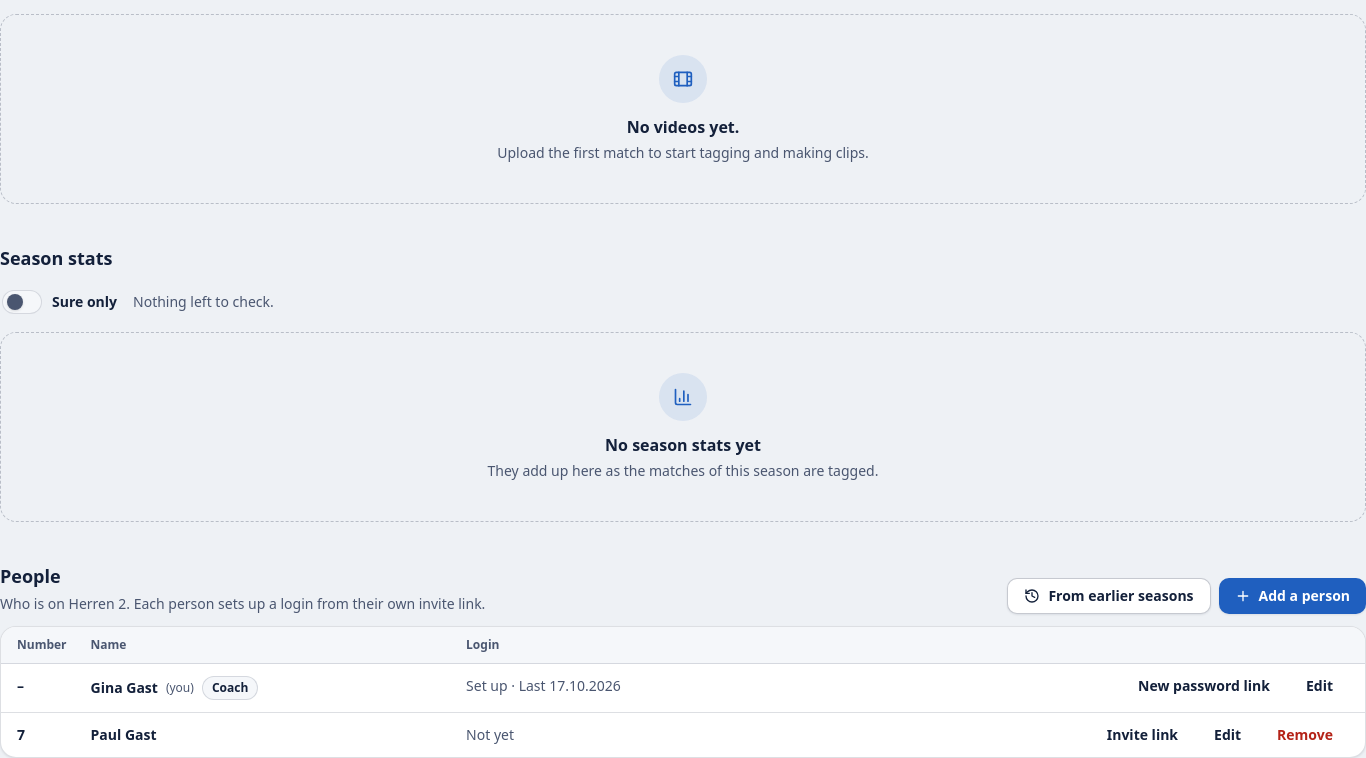
a guest team's seasons › takes people of earlier seasons along
(page scrolled)
Click the button "From earlier seasons".
click(1109, 596)  # box [1007,578,1211,614]
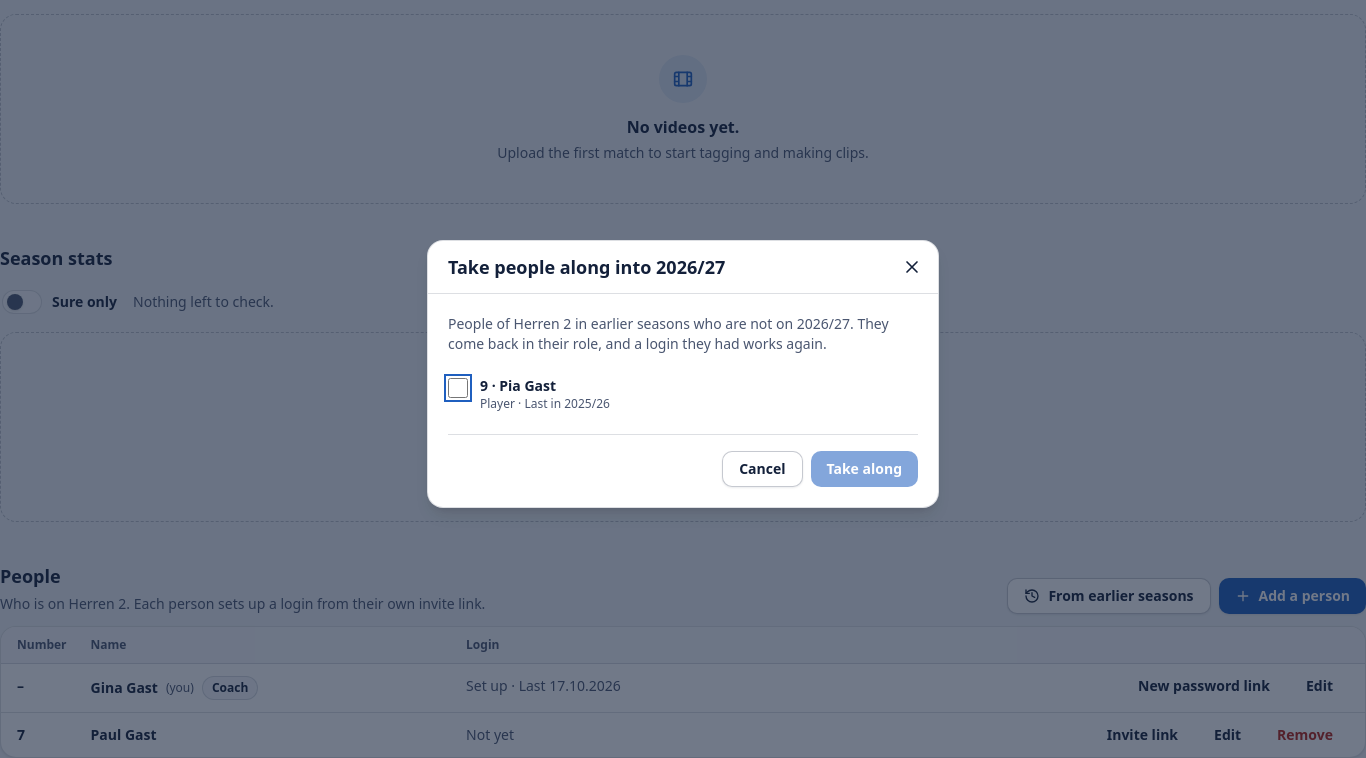
Now the button "Take along" is disabled, box [810,451,918,487]
Now the dialog "Take people along into 2026/27" shows "Player · Last in 2025/26", box [480,395,610,412]
Click the checkbox labelled "9 · Pia Gast Player · Last in 2025/26".
click(458, 388)  # box [448,378,468,398]
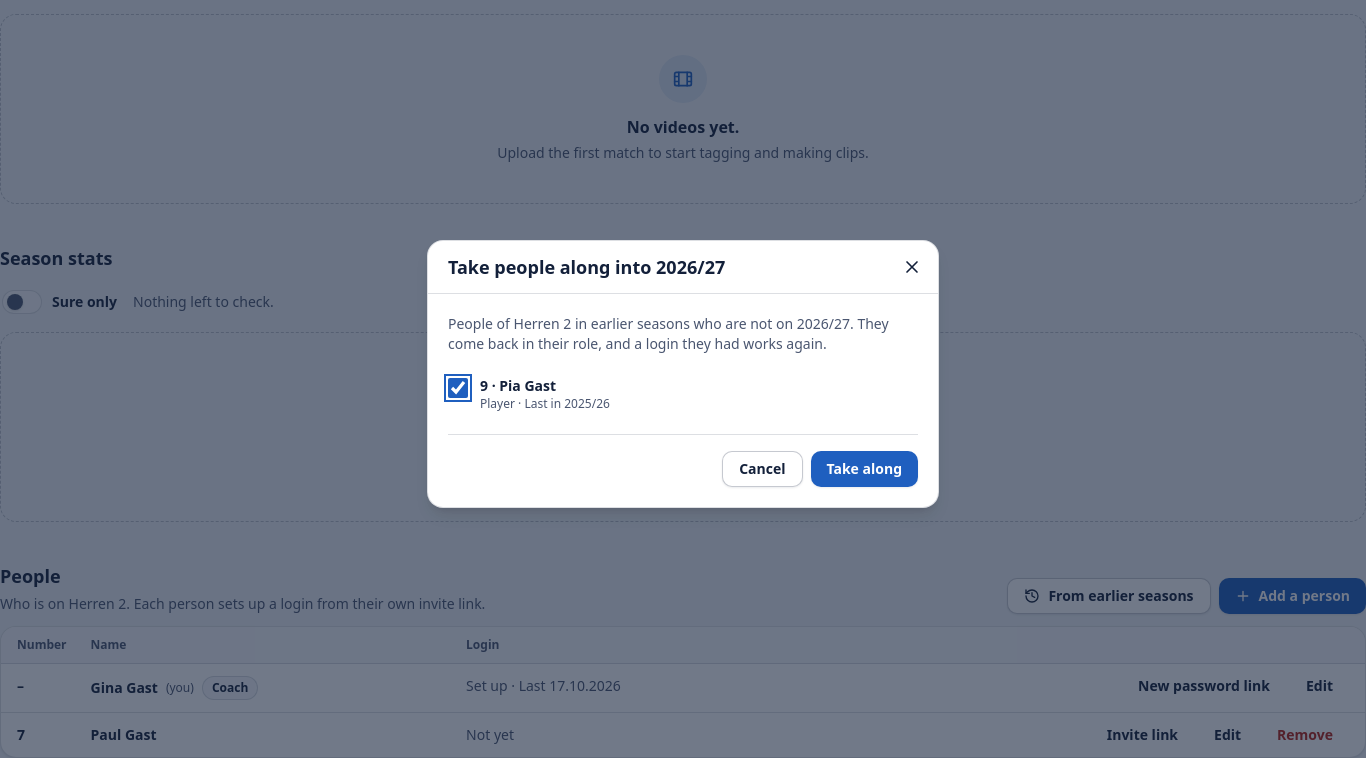
Click the button "Take along".
click(864, 469)  # box [810,451,918,487]
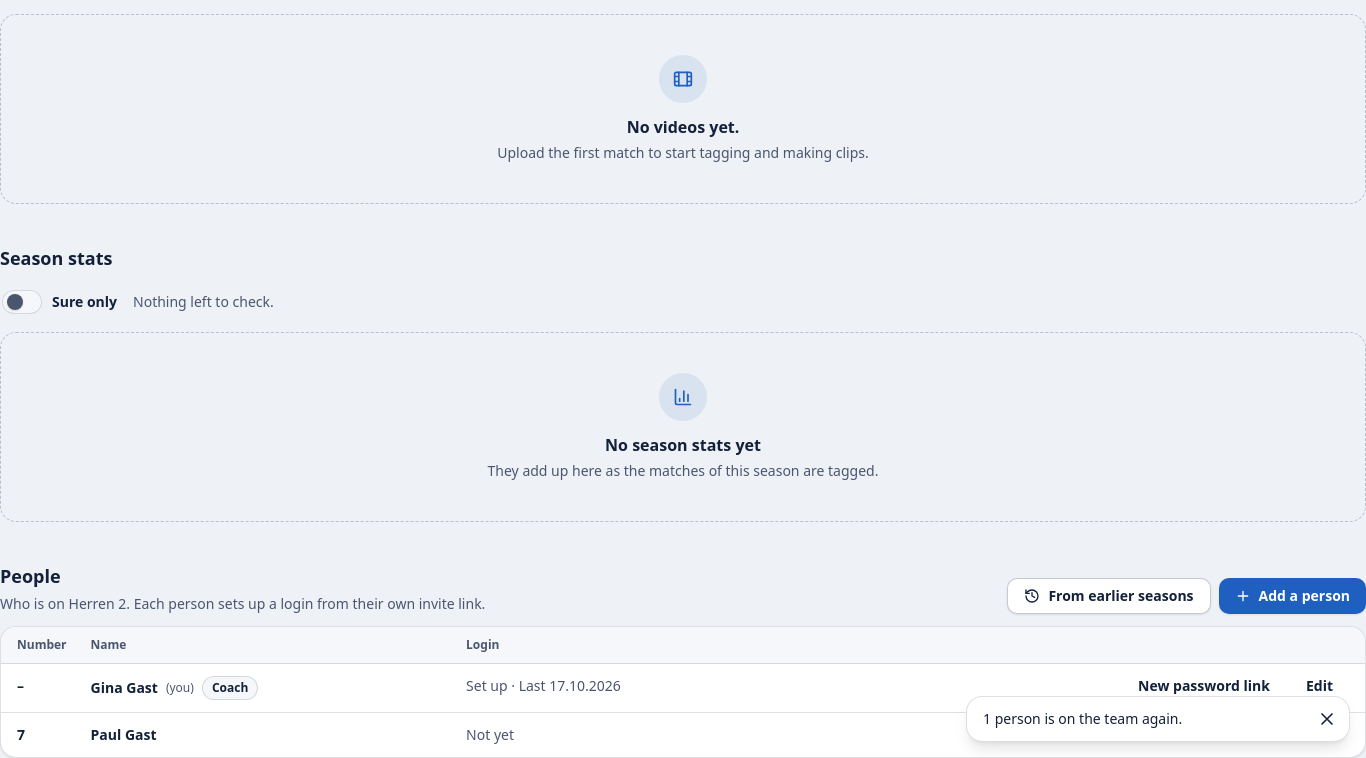
Now the text "1 person is on the team again." is shown, box [983,709,1182,728]
